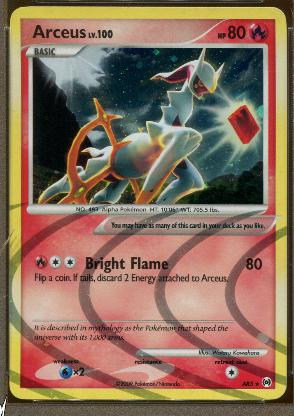Card: (8, 3, 288, 402)
